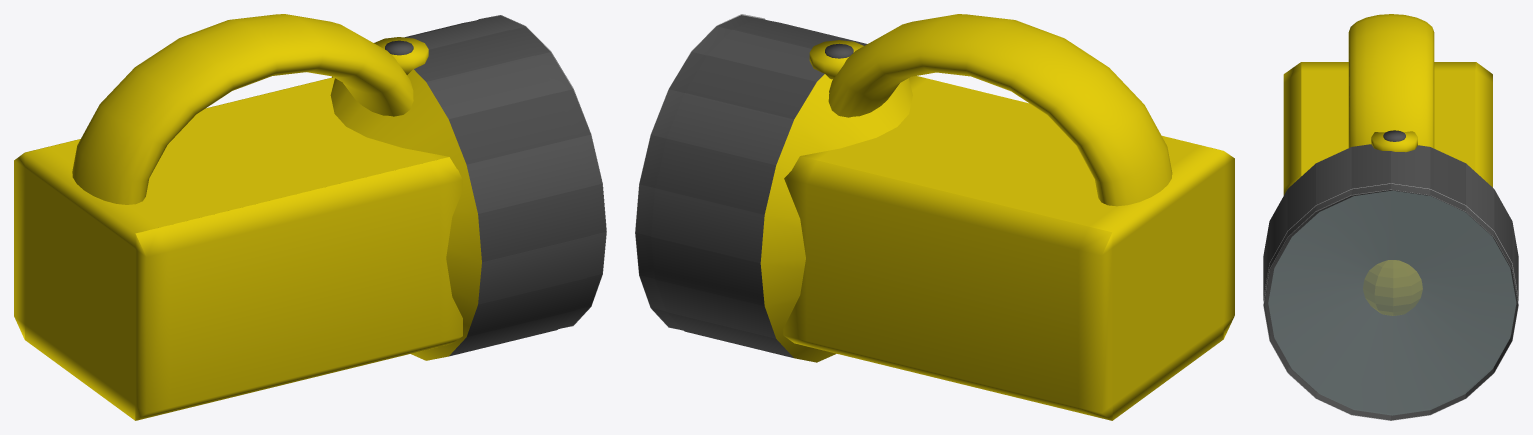
The model's file is FlashLight.fbx.
The picture shows the model from 3 angles, left to right: view 1: azimuth 30°, elevation 25°; view 2: azimuth 150°, elevation 25°; view 3: azimuth 270°, elevation 25°; orthographic projection. The views are drawn at different scales.
Visible parts, largest first — view 1: fleshligt; view 2: fleshligt; view 3: fleshligt.
Boxes of the visible parts, x1,y1,x2,y2 form: fleshligt: (14, 14, 606, 420); fleshligt: (635, 14, 1234, 420); fleshligt: (1263, 14, 1518, 420).
Bounding box in the file's own units: 0.053 × 0.0406 × 0.0332.
